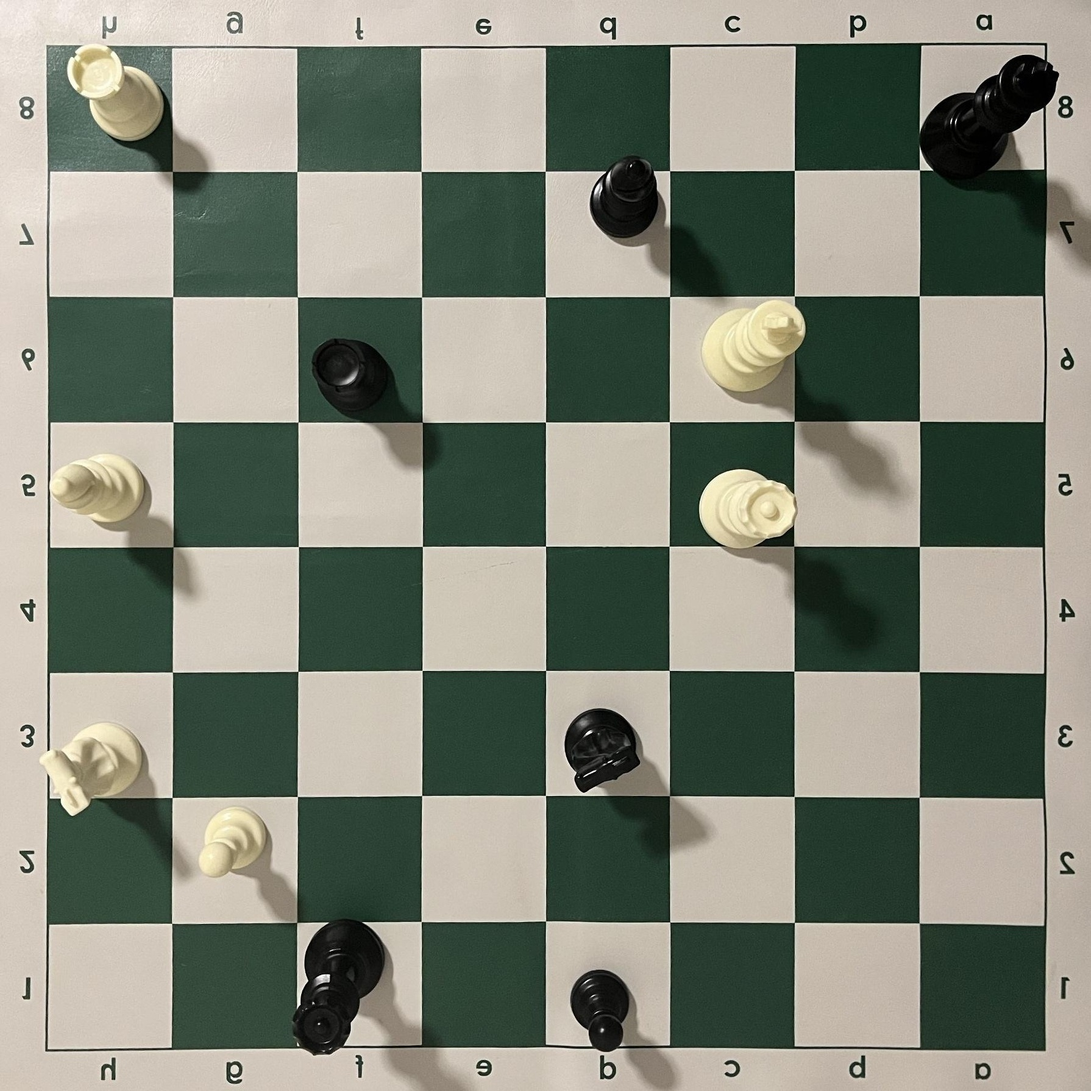black_bishop: (589, 155, 659, 238)
black_king: (918, 54, 1060, 179)
black_knight: (564, 708, 641, 794)
black_pawn: (570, 970, 631, 1051)
black_queen: (292, 918, 387, 1056)
black_rook: (311, 338, 396, 416)
white_bishop: (49, 453, 145, 523)
white_king: (700, 299, 806, 393)
white_knight: (38, 722, 143, 817)
white_pawn: (197, 806, 268, 879)
white_queen: (698, 469, 798, 550)
white_rook: (66, 43, 165, 141)
